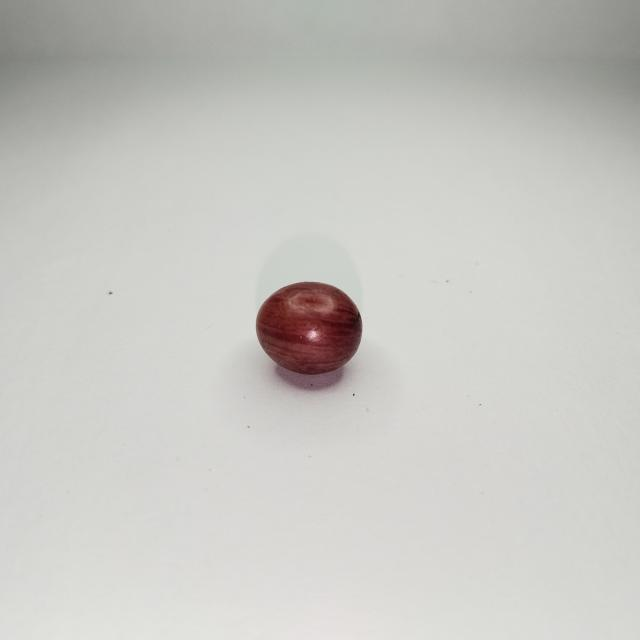Sano: (256, 282, 362, 377)
